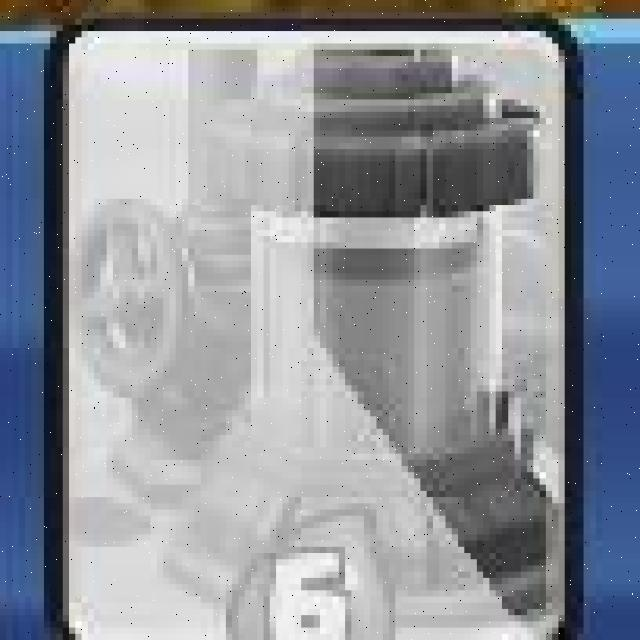Elixir_Pump: (43, 21, 580, 640)
